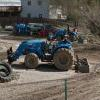Tractor: (11, 30, 86, 77)
